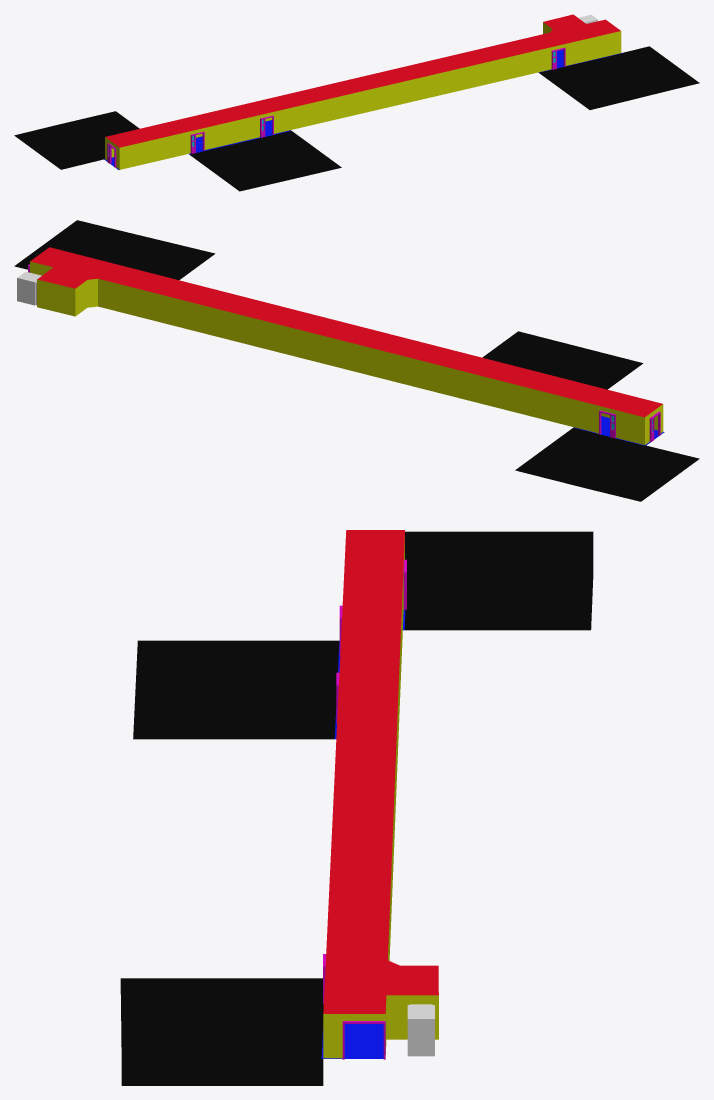
The model's file is GBW LvL2.fbx.
The picture shows the model from 3 angles, top to bottom: view 1: azimuth 30°, elevation 25°; view 2: azimuth 150°, elevation 25°; view 3: azimuth 270°, elevation 25°; orthographic projection. The views are drawn at different scales.
Parts seen in each view (by area): view 1: GBWB F2???, GBWB F2Muren, GBWB F2Plafond, GBWB F2Vloer; view 2: GBWB F2Muren, GBWB F2???, GBWB F2Plafond, Lift F2; view 3: GBWB F2???, GBWB F2Plafond, GBWB F2Muren, GBWB F2Vloer, Lift F2.
Boxes of the visible parts, x1=… form: GBWB F2???: x1=14, y1=46, x2=699, y2=191; GBWB F2Muren: x1=105, y1=22, x2=621, y2=169; GBWB F2Plafond: x1=105, y1=14, x2=620, y2=147; GBWB F2Vloer: x1=104, y1=49, x2=621, y2=169; GBWB F2Muren: x1=30, y1=261, x2=663, y2=445; GBWB F2???: x1=14, y1=220, x2=699, y2=501; GBWB F2Plafond: x1=30, y1=247, x2=662, y2=417; Lift F2: x1=17, y1=271, x2=41, y2=305; GBWB F2???: x1=120, y1=531, x2=593, y2=1085; GBWB F2Plafond: x1=323, y1=530, x2=438, y2=1013; GBWB F2Muren: x1=323, y1=537, x2=438, y2=1058; GBWB F2Vloer: x1=321, y1=609, x2=405, y2=1058; Lift F2: x1=407, y1=1004, x2=434, y2=1056.
Bounding box in the file's own units: 6685 × 250 × 2409.
